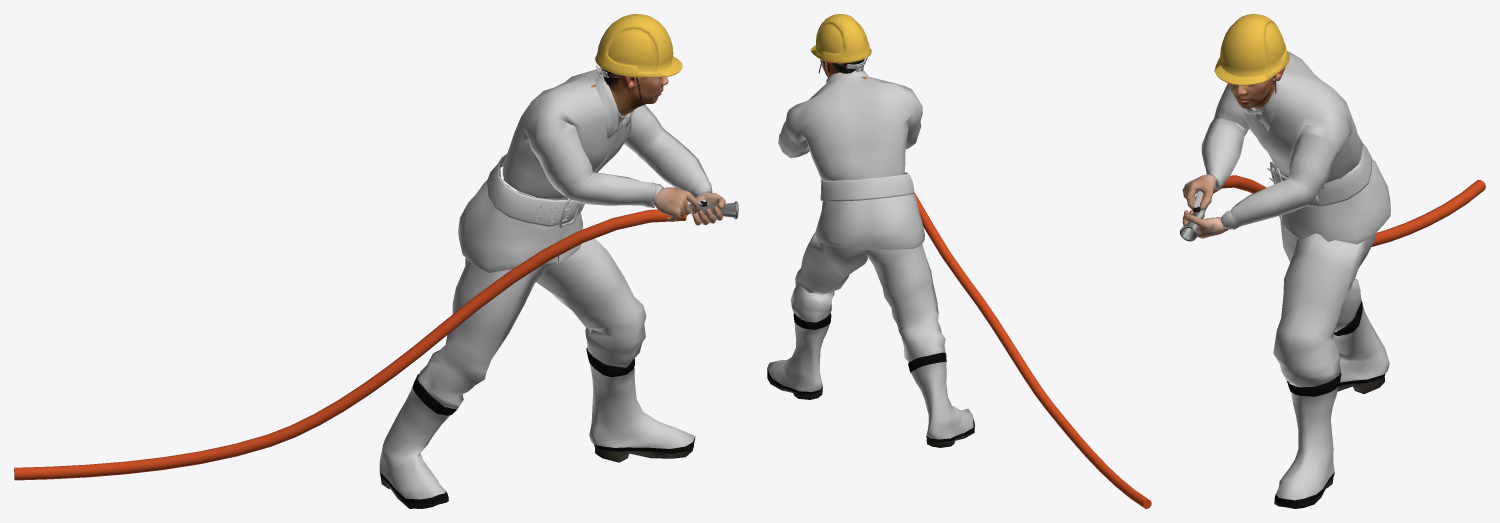
Rendered from xfy.gltf.
The picture shows the model from 3 angles, left to right: view 1: azimuth 30°, elevation 25°; view 2: azimuth 150°, elevation 25°; view 3: azimuth 270°, elevation 25°; orthographic projection. The views are drawn at different scales.
Parts seen in each view (by area): view 1: Obj3d66-1295044-2-667, 对象001, Line001; view 2: Obj3d66-1295044-2-667, 对象001, Line001; view 3: Obj3d66-1295044-2-667, 对象001, Line001.
Part boxes in pixels (<box>): Obj3d66-1295044-2-667: <box>379,153,695,508</box>; 对象001: <box>502,14,738,225</box>; Line001: <box>14,209,686,480</box>; Obj3d66-1295044-2-667: <box>767,172,974,447</box>; 对象001: <box>778,14,922,181</box>; Line001: <box>914,192,1151,508</box>; Obj3d66-1295044-2-667: <box>1267,144,1390,508</box>; 对象001: <box>1180,14,1363,241</box>; Line001: <box>1195,175,1485,246</box>.
Bounding box in the file's own units: 2.13 × 1.61 × 0.9721.
